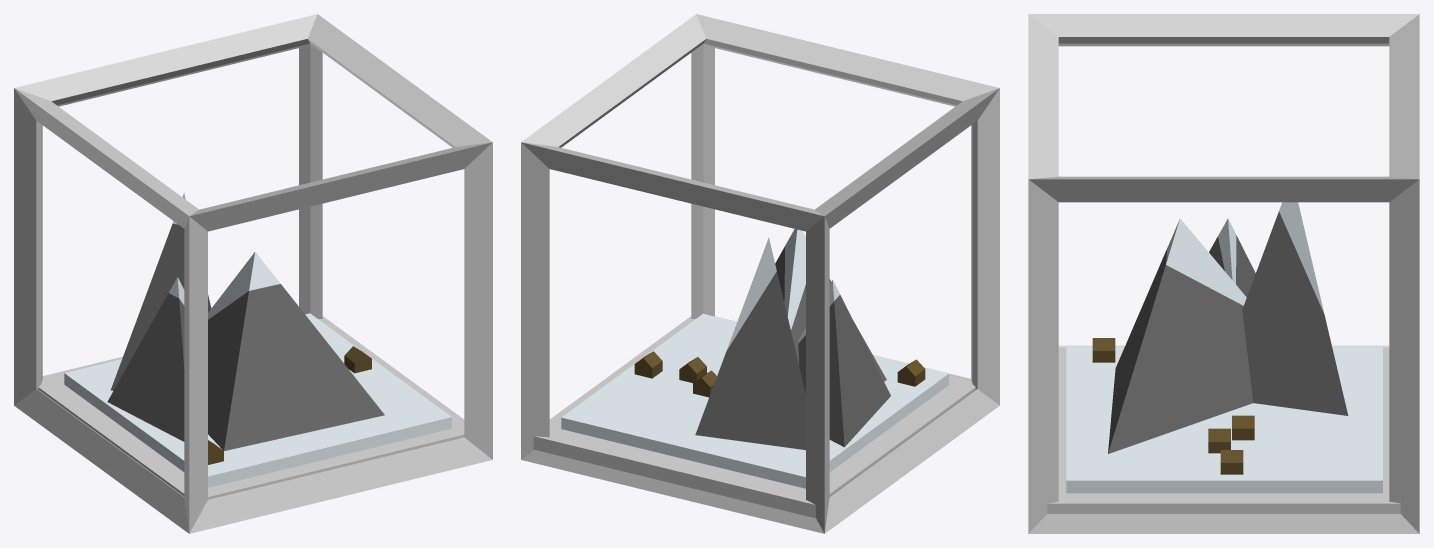
File: Snowy Mountain Memory Cube.fbx
3 views of the same model, side by side, from view 1: azimuth 30°, elevation 25°; view 2: azimuth 150°, elevation 25°; view 3: azimuth 270°, elevation 25° (orthographic). The views are drawn at different scales.
Parts seen in each view (by area): view 1: Cube.050, Cone.002, Cube.048, Cube.051, Cone, Cone.001; view 2: Cube.050, Cube.048, Cone.001, Cube.051, Cone, Cone.002, Cube.053, Cube.055; view 3: Cube.050, Cube.048, Cone.002, Cone.001, Cube.051, Cone, Cube.053, Cube.055, Cube.054, Cube.052.
Part boxes in pixels (<box>): Cube.050: <box>14,14,492,533</box>; Cone.002: <box>208,252,384,450</box>; Cube.048: <box>64,313,451,487</box>; Cube.051: <box>38,316,464,499</box>; Cone: <box>107,277,184,441</box>; Cone.001: <box>110,192,211,390</box>; Cube.050: <box>521,14,999,533</box>; Cube.048: <box>561,313,948,488</box>; Cone.001: <box>695,237,805,449</box>; Cube.051: <box>533,316,975,517</box>; Cone: <box>798,280,890,447</box>; Cone.002: <box>775,229,886,381</box>; Cube.053: <box>897,359,925,386</box>; Cube.055: <box>634,351,662,378</box>; Cube.050: <box>1028,14,1419,533</box>; Cube.048: <box>1066,346,1382,493</box>; Cone.002: <box>1108,218,1253,453</box>; Cone.001: <box>1242,202,1348,415</box>; Cube.051: <box>1047,347,1400,513</box>; Cone: <box>1209,218,1255,297</box>; Cube.053: <box>1092,338,1115,362</box>; Cube.055: <box>1220,450,1243,474</box>; Cube.054: <box>1232,415,1254,440</box>; Cube.052: <box>1208,428,1230,453</box>.
Size of the model in its own units: 61.71 by 61.71 by 61.71.
